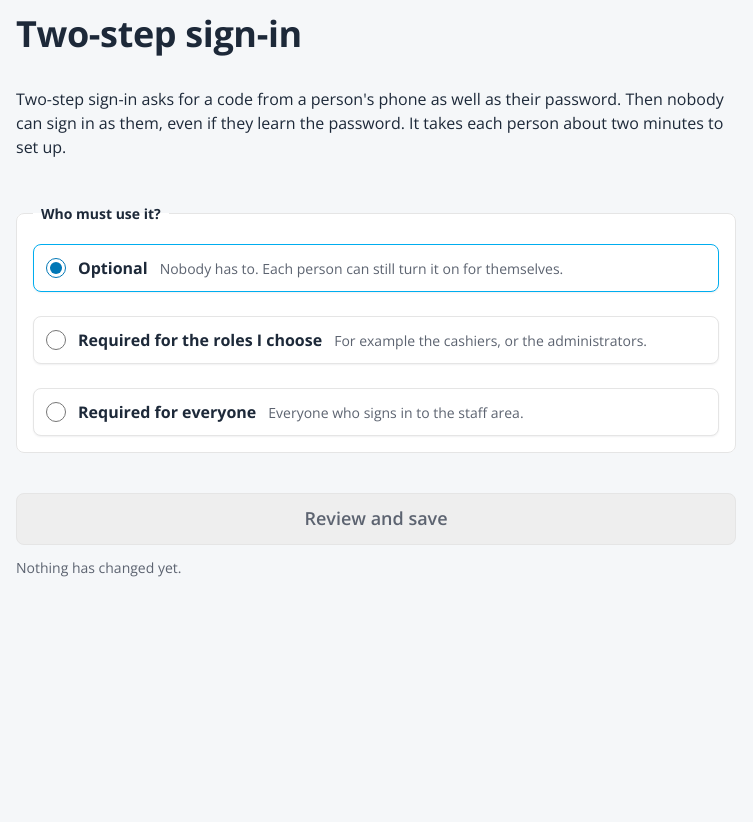
Test case: the policy screen › lets the grace period be none, and says so
Expected: the radio button labelled "Optional" is checked, left=46, top=258, right=66, bottom=278
Click the radio button labelled "Required for everyone" at coordinates (56, 412), box left=46, top=402, right=66, bottom=422
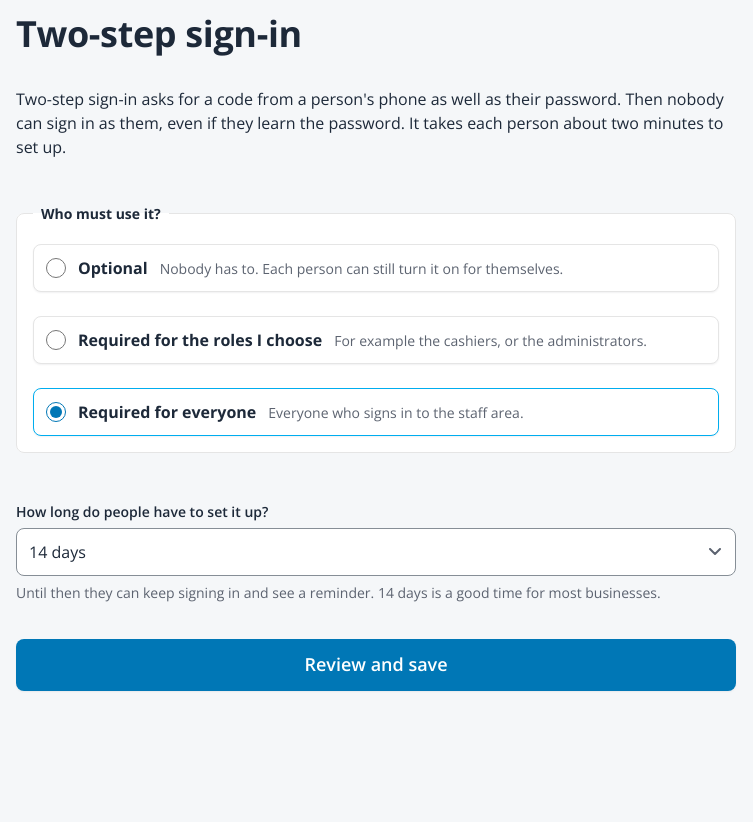
Select "No wait: from the next sign-in" in the dropdown labelled "How long do people have to set it up?" at coordinates (376, 552), box left=16, top=528, right=736, bottom=576
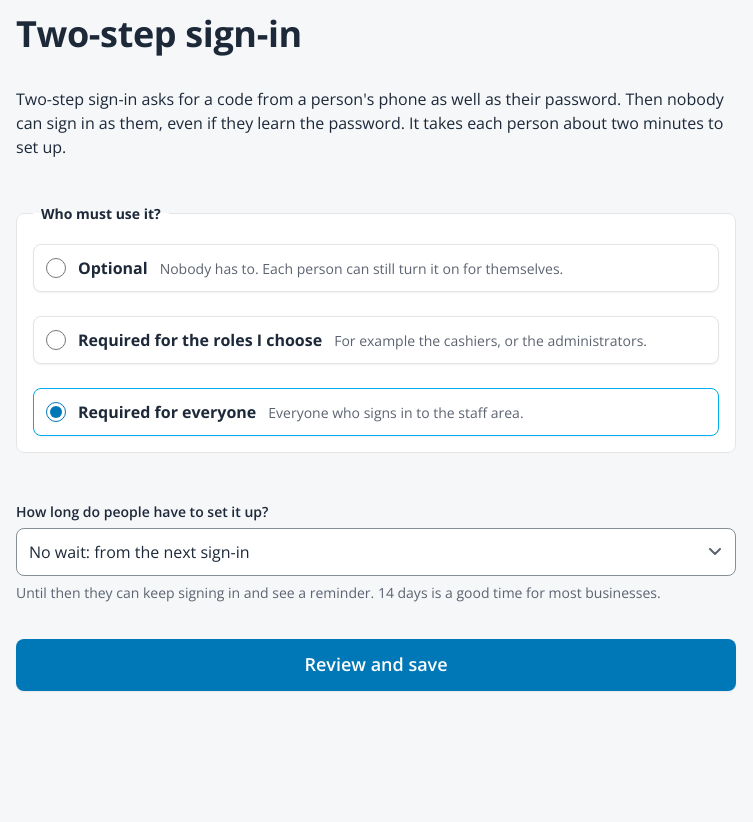
Click the button "Review and save" at coordinates (376, 665), box left=16, top=639, right=736, bottom=691
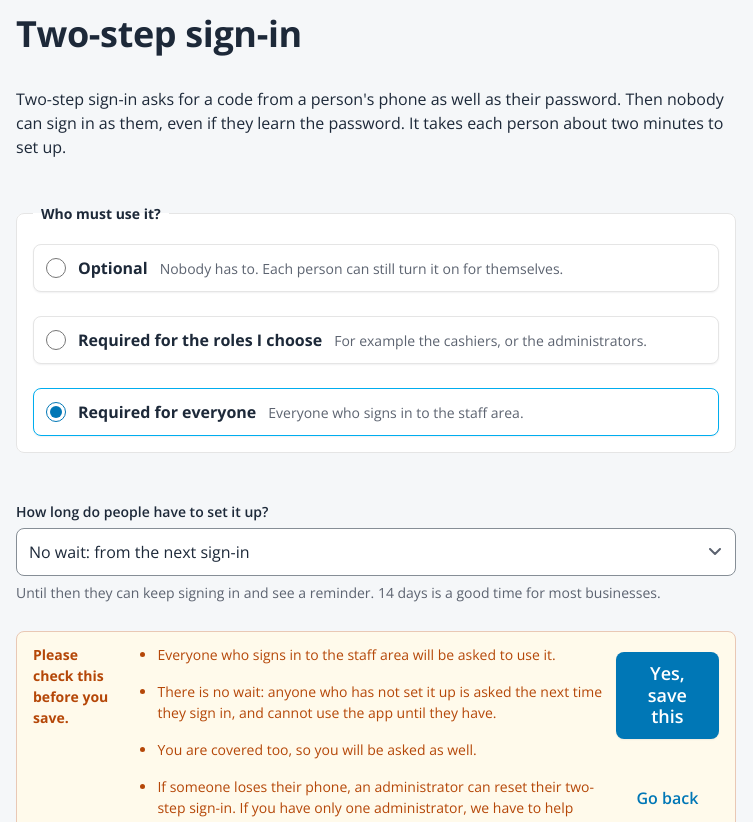
Expected: the list item "There is no wait" is shown, left=157, top=682, right=602, bottom=722
Click the button "Yes, save this" at coordinates (667, 696), box left=616, top=652, right=719, bottom=739
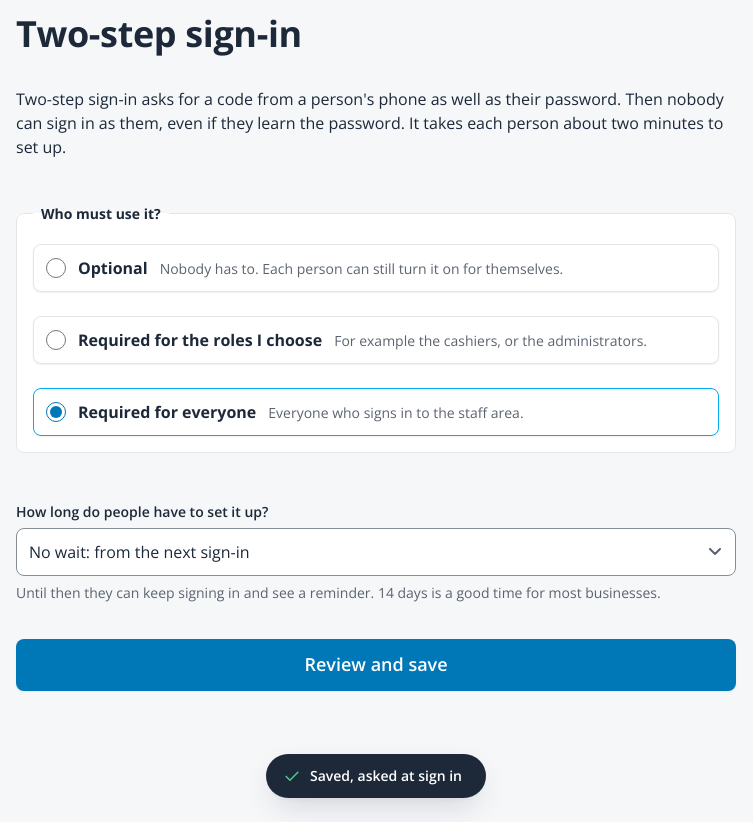
Expected: the text "Saved, asked at sign in" is shown, left=310, top=766, right=462, bottom=786
